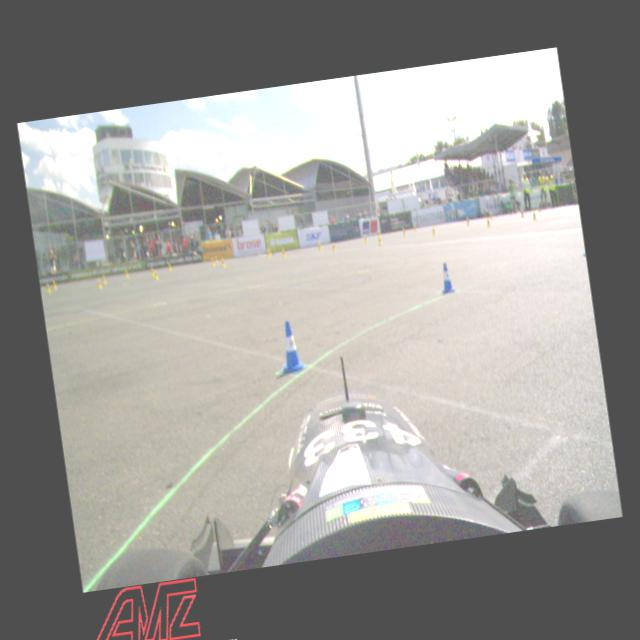blue_cone: (276, 319, 304, 370), (440, 262, 456, 294)
yellow_cone: (317, 240, 323, 252), (332, 242, 336, 252)
